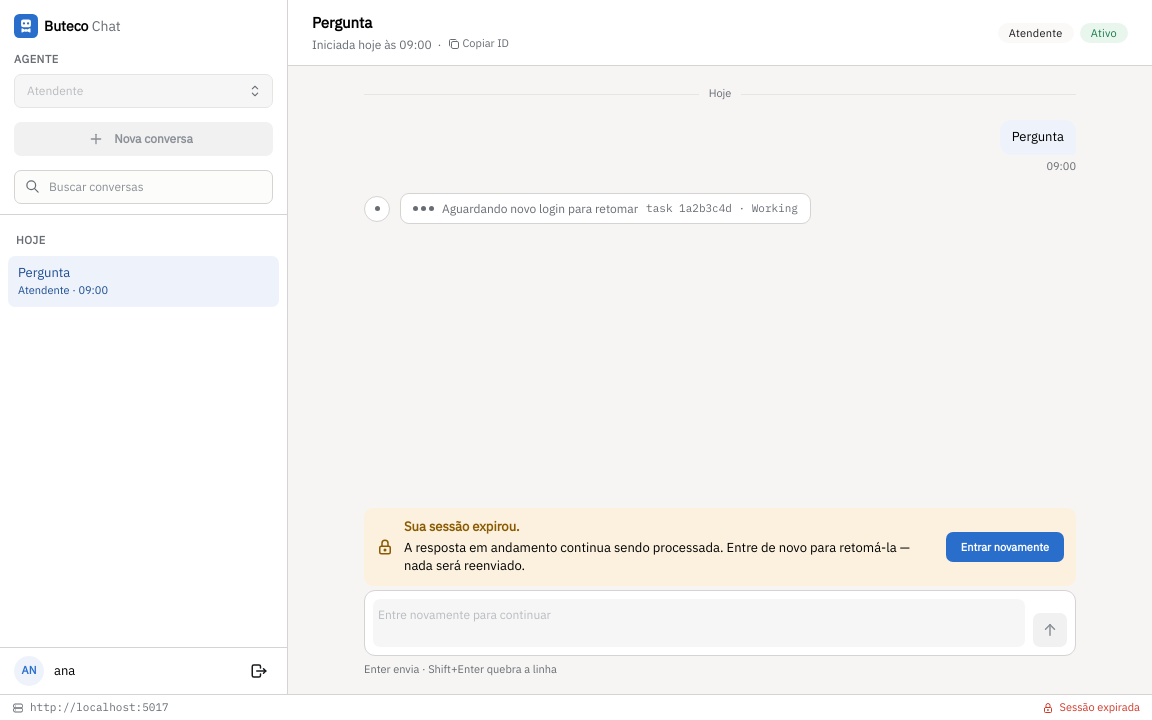
Test: várias conversas › resposta retomada → sessão expirada → novo login: continua sem duração pelo relógio local
The image size is (1152, 720).
Click the button "Entrar novamente" at (1005, 547), box [946,532,1064,562]
Wait 300 ms
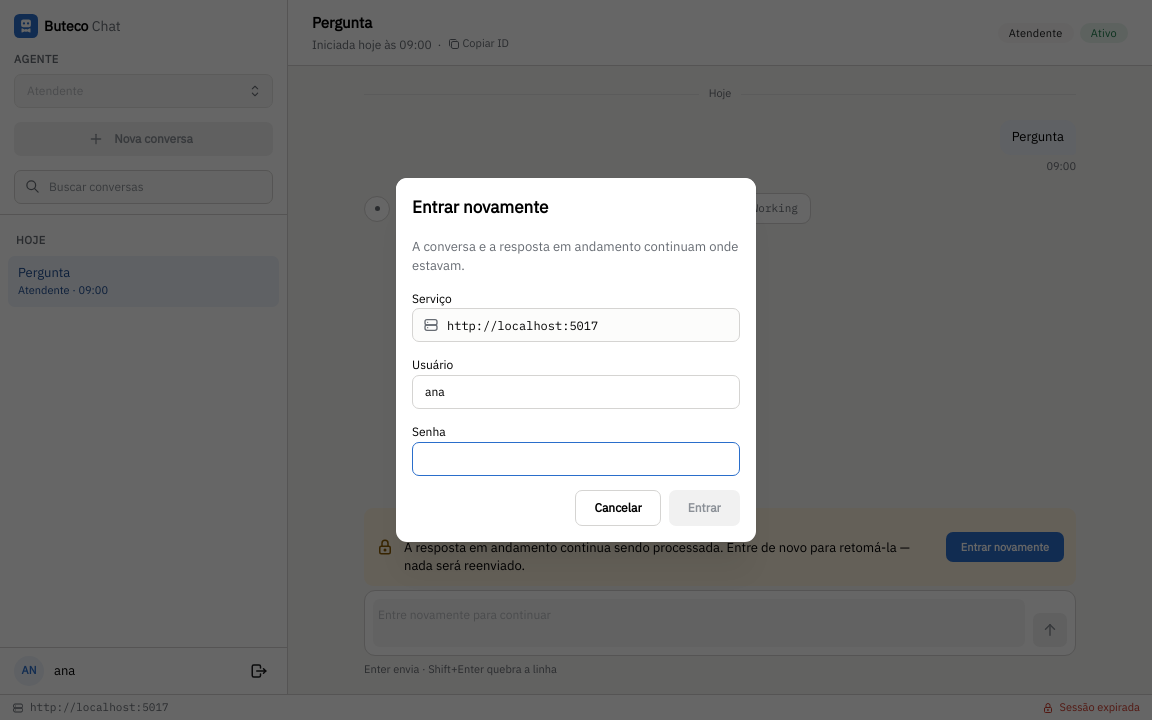
Type "s3nha" into the password field labelled "Senha" at (576, 459), box [412,442,740,476]
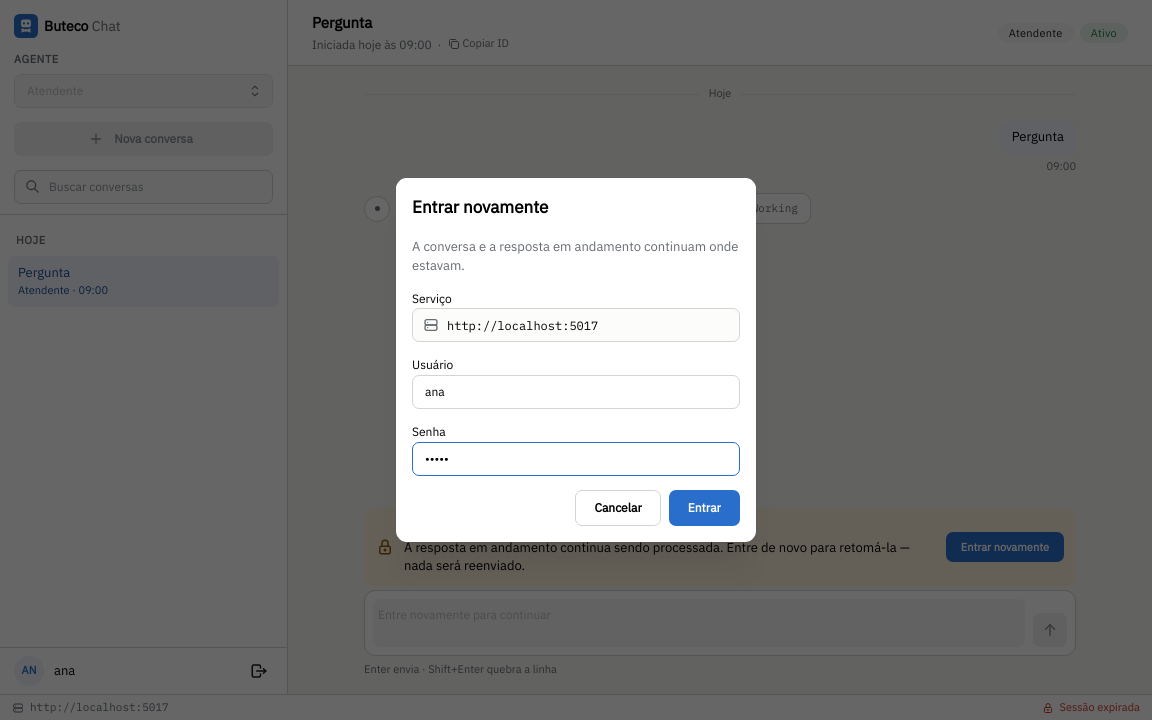
Click the button "Entrar" at (704, 508), box [669,490,740,526]
Wait 1000 ms
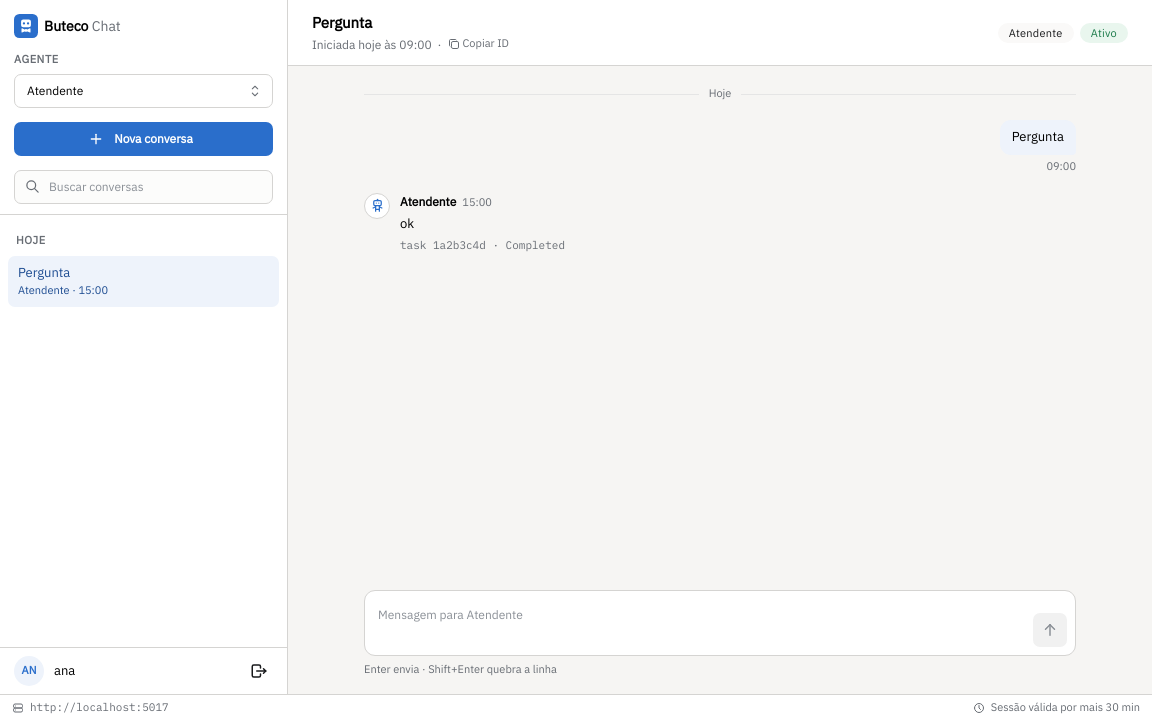
expect the text "task 1a2b3c4d · Completed" is shown: met, box [400,238,565,252]
